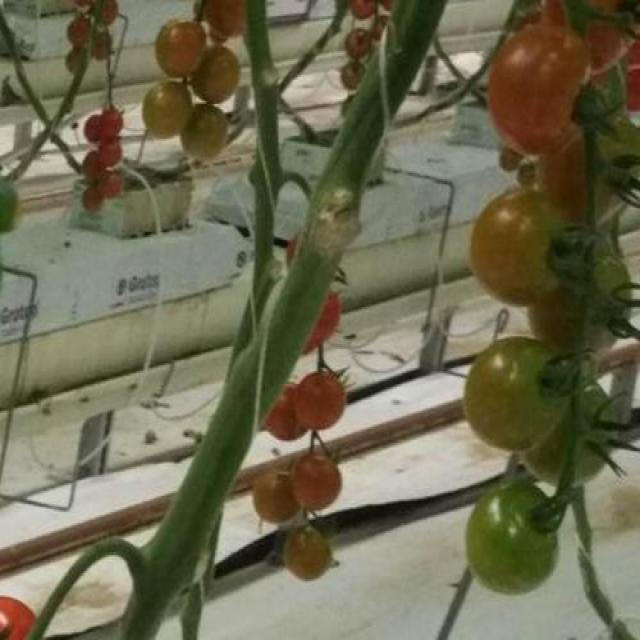tomato: (490, 24, 594, 158), (297, 371, 347, 433), (289, 454, 342, 510), (264, 386, 304, 448)
